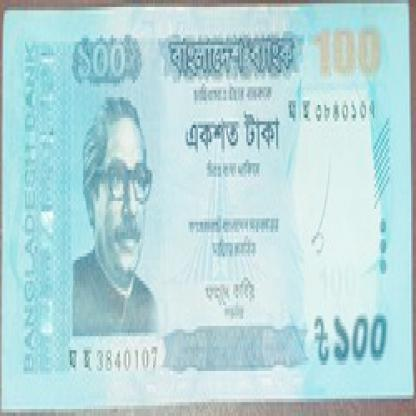one hundred taka: (306, 24, 388, 80), (328, 305, 394, 374), (72, 31, 134, 87)
